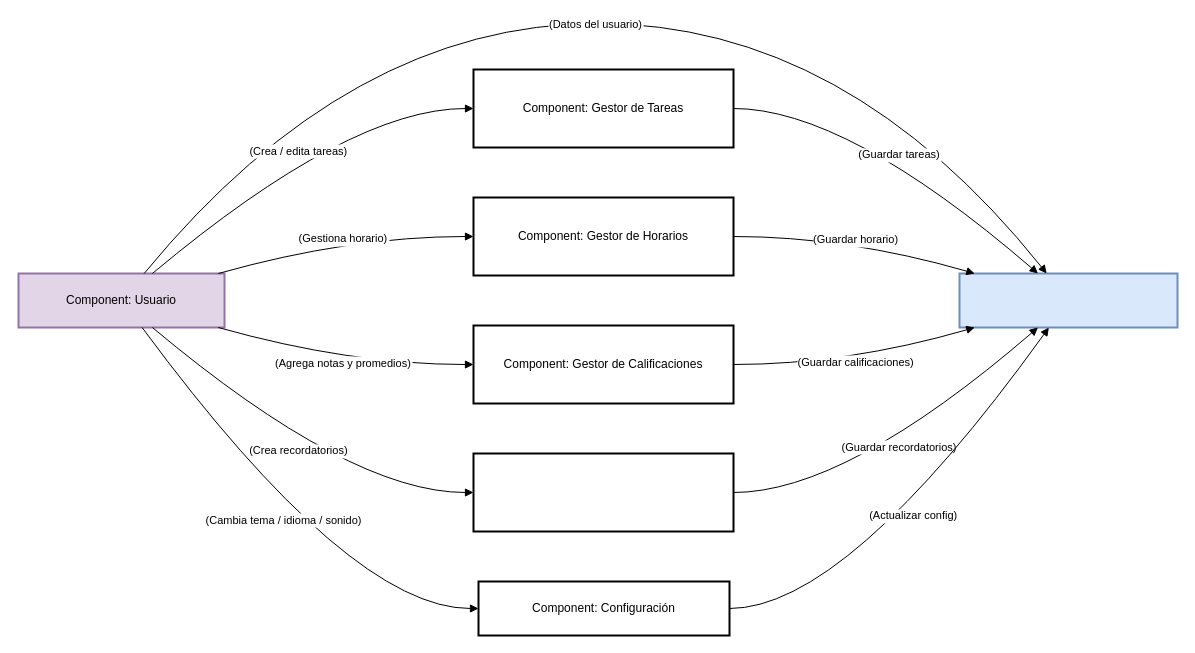
The diagram is 1195 pixels wide and 653 high, and some of its shapes have lost their labels. Each missing label, with the box of its shape:
Component: Database: (958, 272, 1178, 328)
Component: Gestor de Recordatorios: (472, 452, 734, 532)
